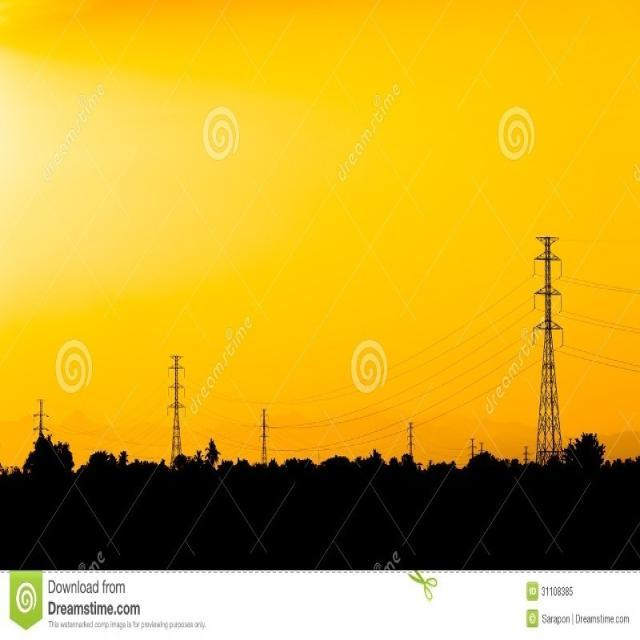non-critical vegetation: (528, 229, 568, 478), (164, 347, 190, 464), (31, 392, 50, 454), (400, 414, 418, 468), (254, 410, 269, 462)
